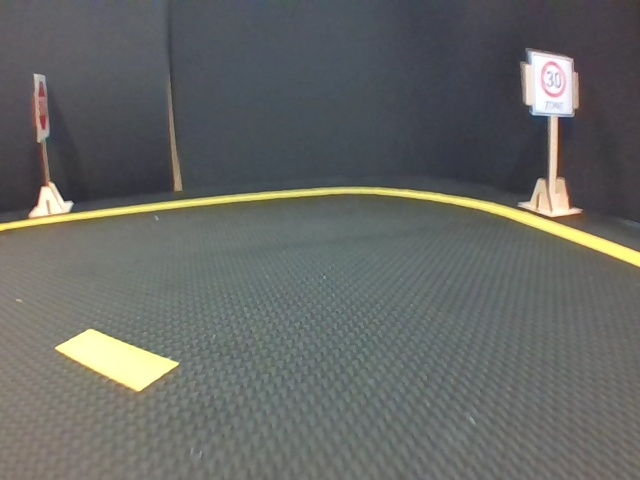30: (532, 53, 571, 117)
stop: (36, 75, 48, 139)
